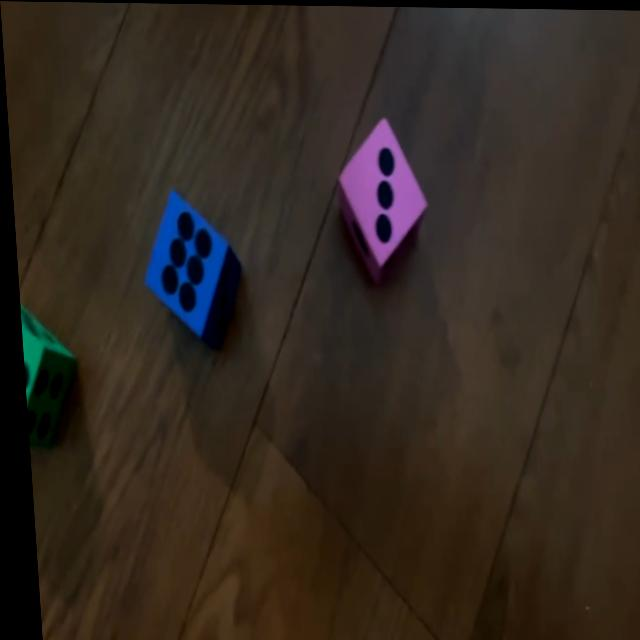blue_block: (138, 184, 237, 344)
